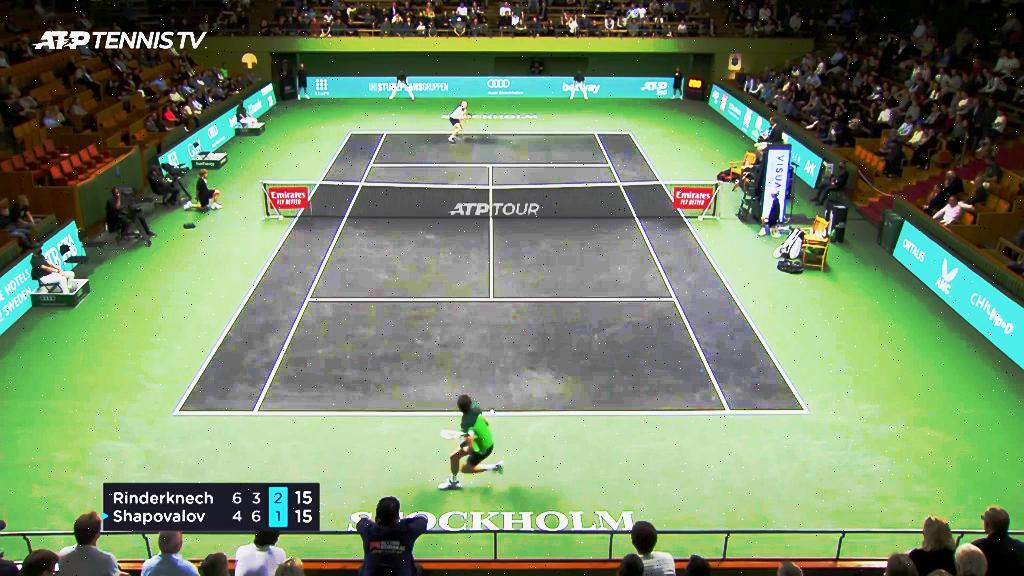tennis-court: (171, 132, 811, 415)
